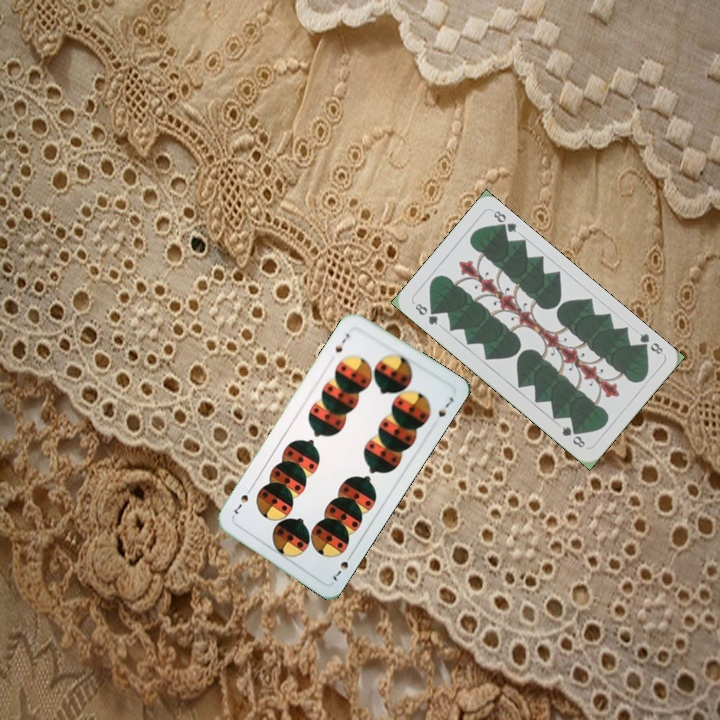G8: (410, 299, 441, 328), (634, 329, 665, 357)
S7: (329, 549, 356, 584), (331, 329, 352, 355)
